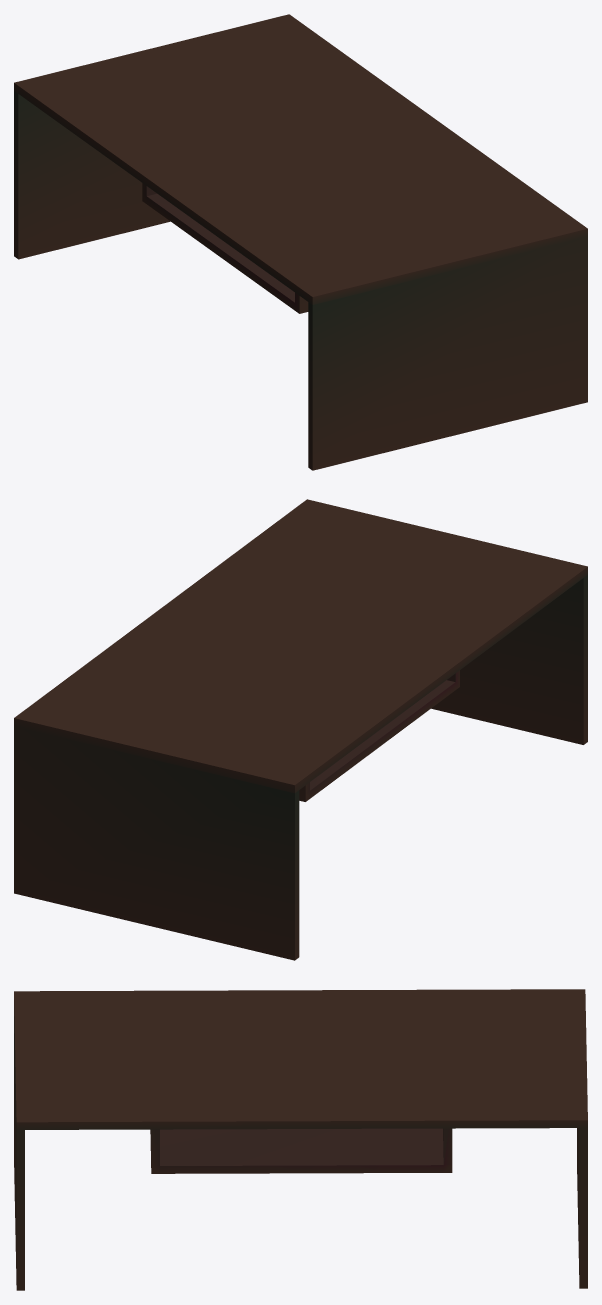
3 renders of one model, top to bottom at view 1: azimuth 30°, elevation 25°; view 2: azimuth 150°, elevation 25°; view 3: azimuth 270°, elevation 25°, orthographic. The views are drawn at different scales.
Parts seen in each view (by area): view 1: top, end_panel, opposite_end_panel, tray_floor; view 2: top, opposite_end_panel, end_panel, tray_floor; view 3: top, tray_floor, end_panel, opposite_end_panel.
Boxes of the visible parts, <box> form: top: <box>14,14,587,304</box>; end_panel: <box>308,236,587,470</box>; opposite_end_panel: <box>14,91,170,259</box>; tray_floor: <box>142,183,308,313</box>; top: <box>14,499,587,793</box>; opposite_end_panel: <box>14,726,299,960</box>; end_panel: <box>431,575,587,744</box>; tray_floor: <box>299,670,459,801</box>; top: <box>14,989,587,1129</box>; tray_floor: <box>150,1128,452,1173</box>; end_panel: <box>14,1007,24,1290</box>; opposite_end_panel: <box>577,1128,587,1288</box>.
Size of the model in its own units: 0.6611 by 0.3904 by 1.21.
